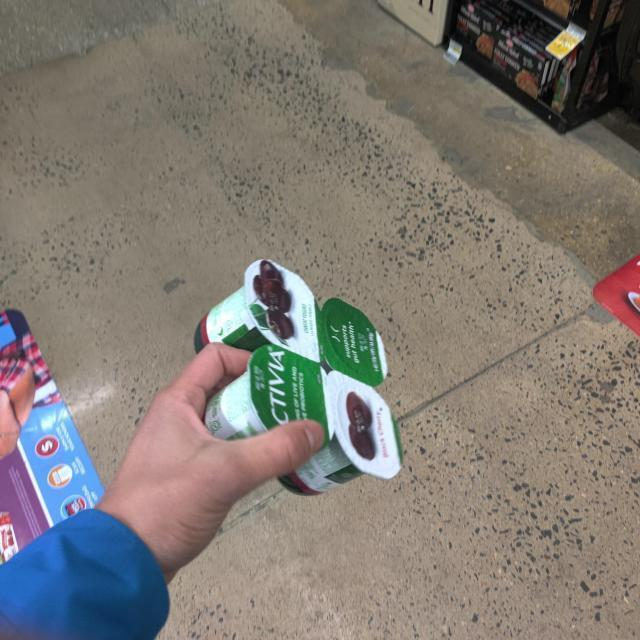Yogurt: (200, 265, 420, 495)
